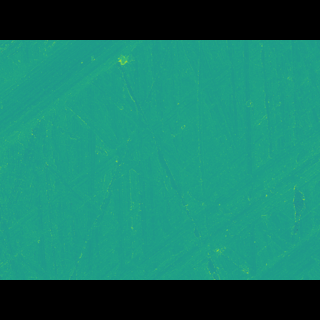Loch: (129, 134, 320, 250), (0, 69, 146, 155)
